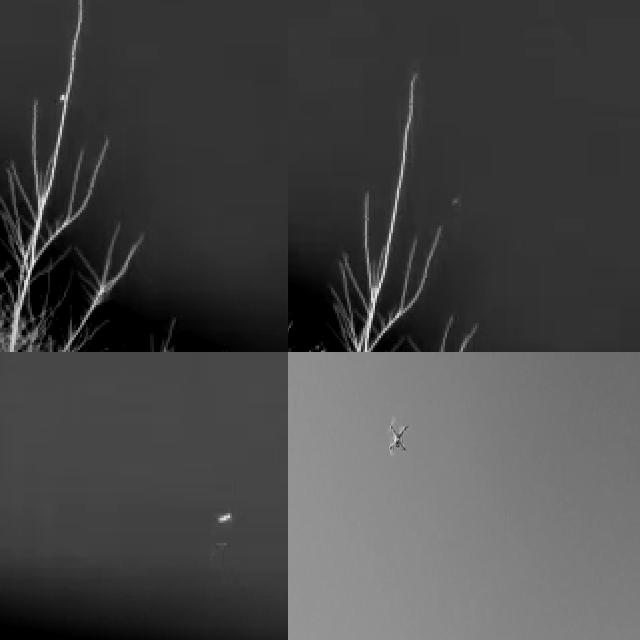0: (444, 188, 466, 216), (56, 89, 72, 111)
1: (210, 507, 240, 537)
drone: (386, 418, 411, 461)
